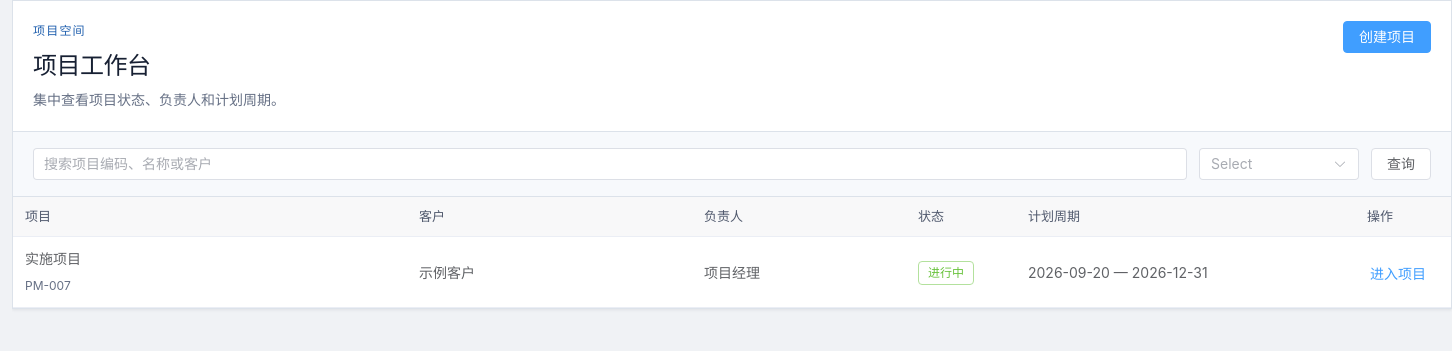
ProjectWorkspace › loads visible projects and opens the create form for authorized users
This screenshot has width=1452, height=351.
Click the button with test id "create-project" at (1387, 37), box [1343, 21, 1431, 53]
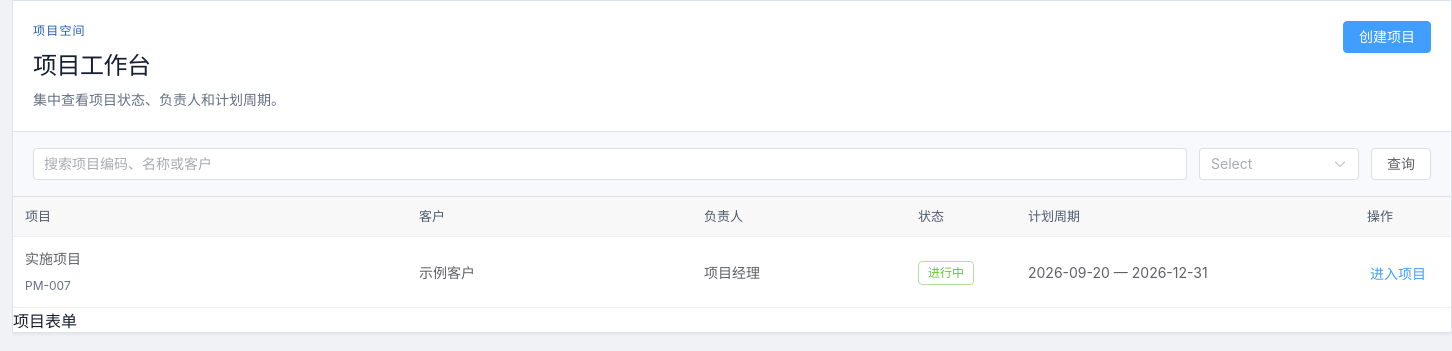
Expected: the text with test id "project-editor" reads "项目表单", [13, 311, 77, 331]
